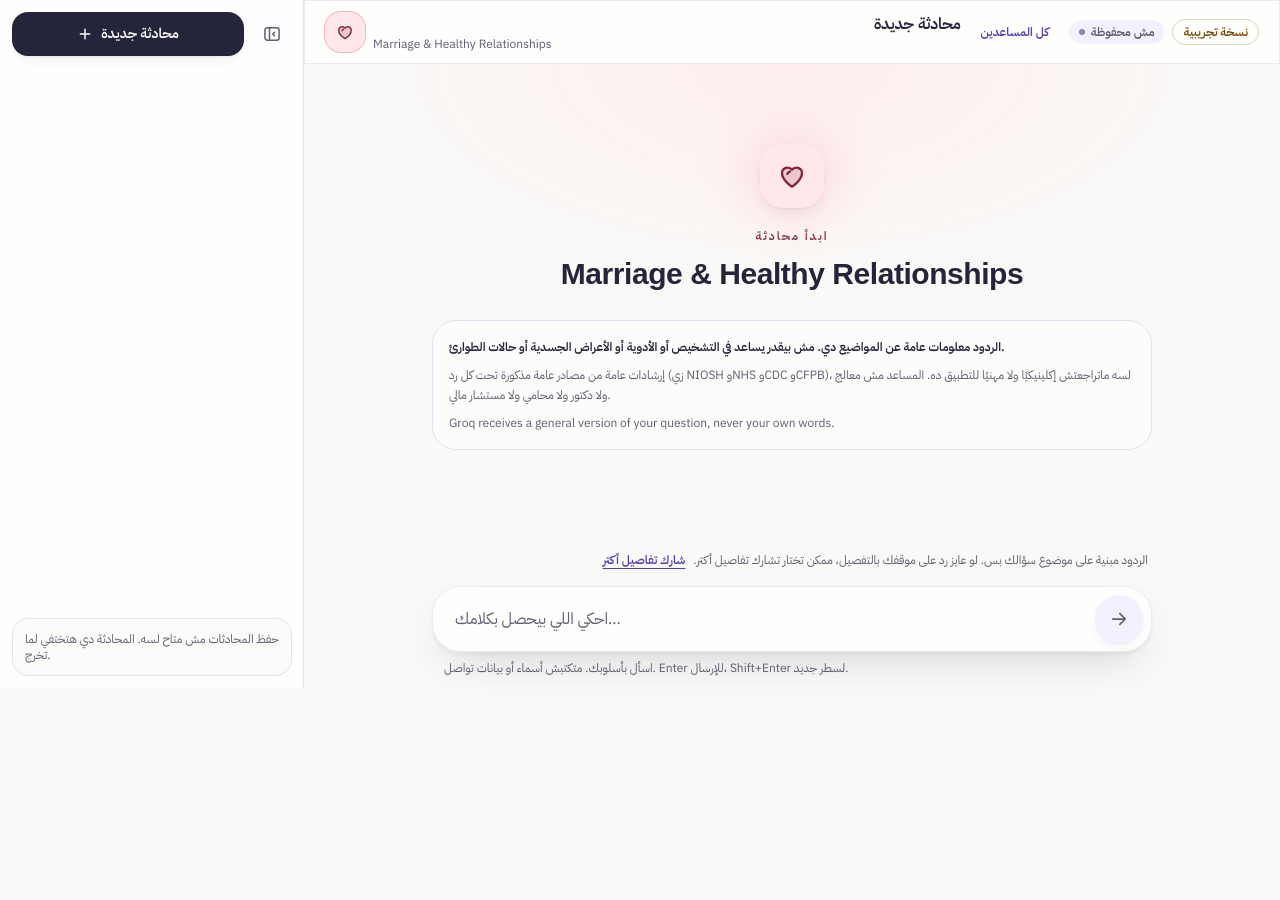
Scenario: support notices › are shown in Arabic by kind, with verified numbers and vetted sources
In the text box named "اسأل سؤال عام": (764, 619) [441,595,1087,643], type "جوزي بيضربني"
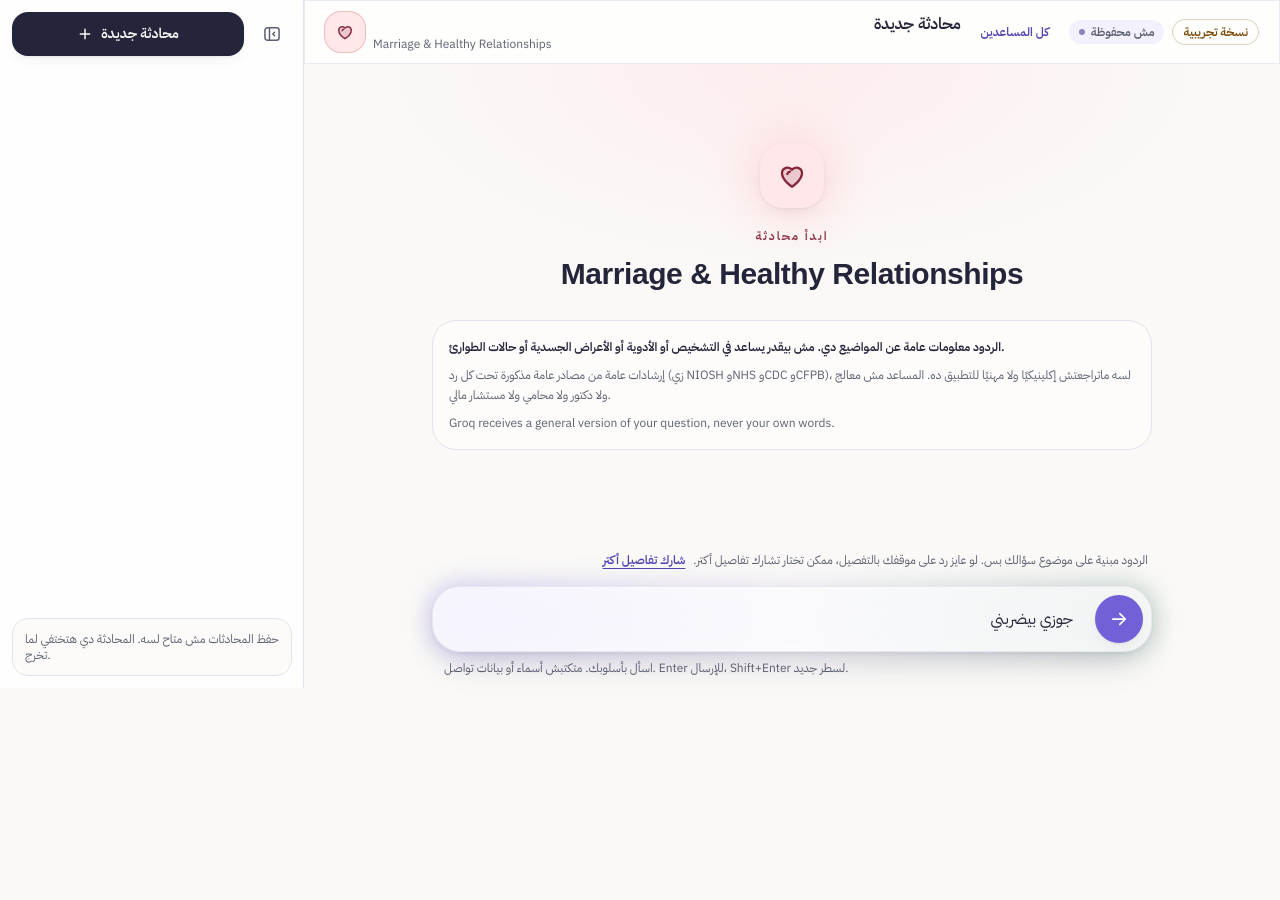
Click the button named "ابعت": (1119, 619) [1095,595,1143,643]
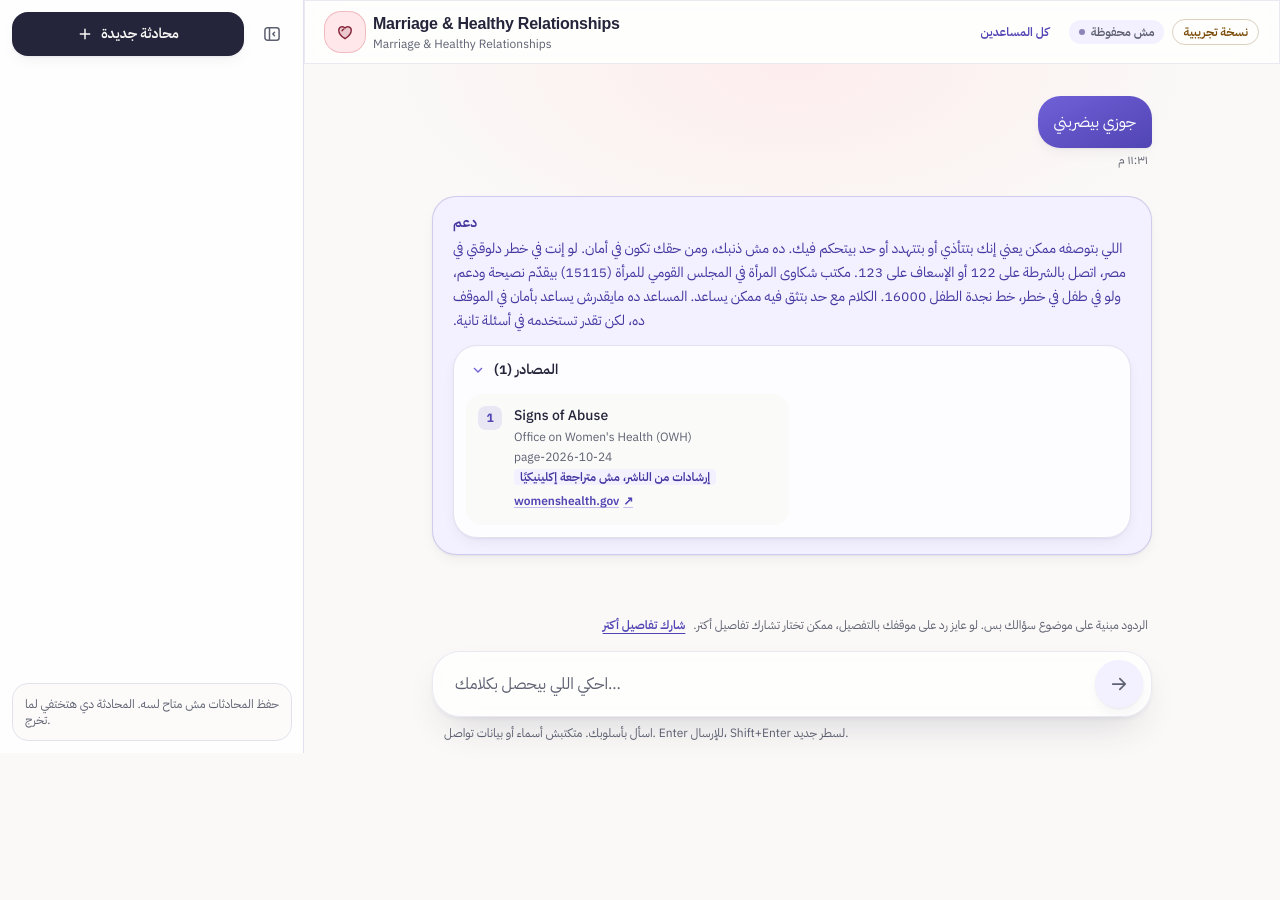
Now the element that starts with "دعم" shows "15115", box [453,238,1126,331]
Now the element that starts with "دعم" shows "16000", box [453,238,1126,331]
Now the text "womenshealth.gov" is shown, box [514,493,619,509]
